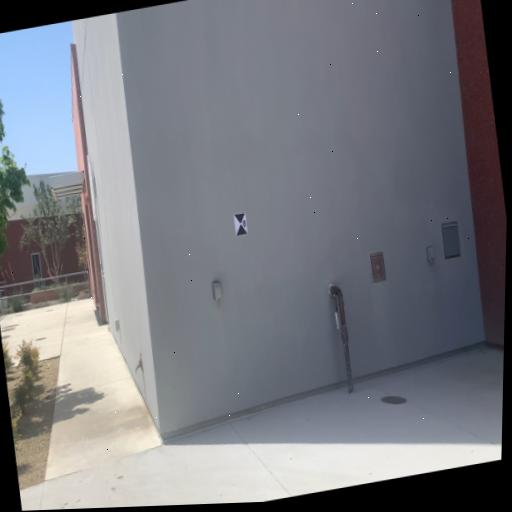target8: (233, 211, 250, 238)
